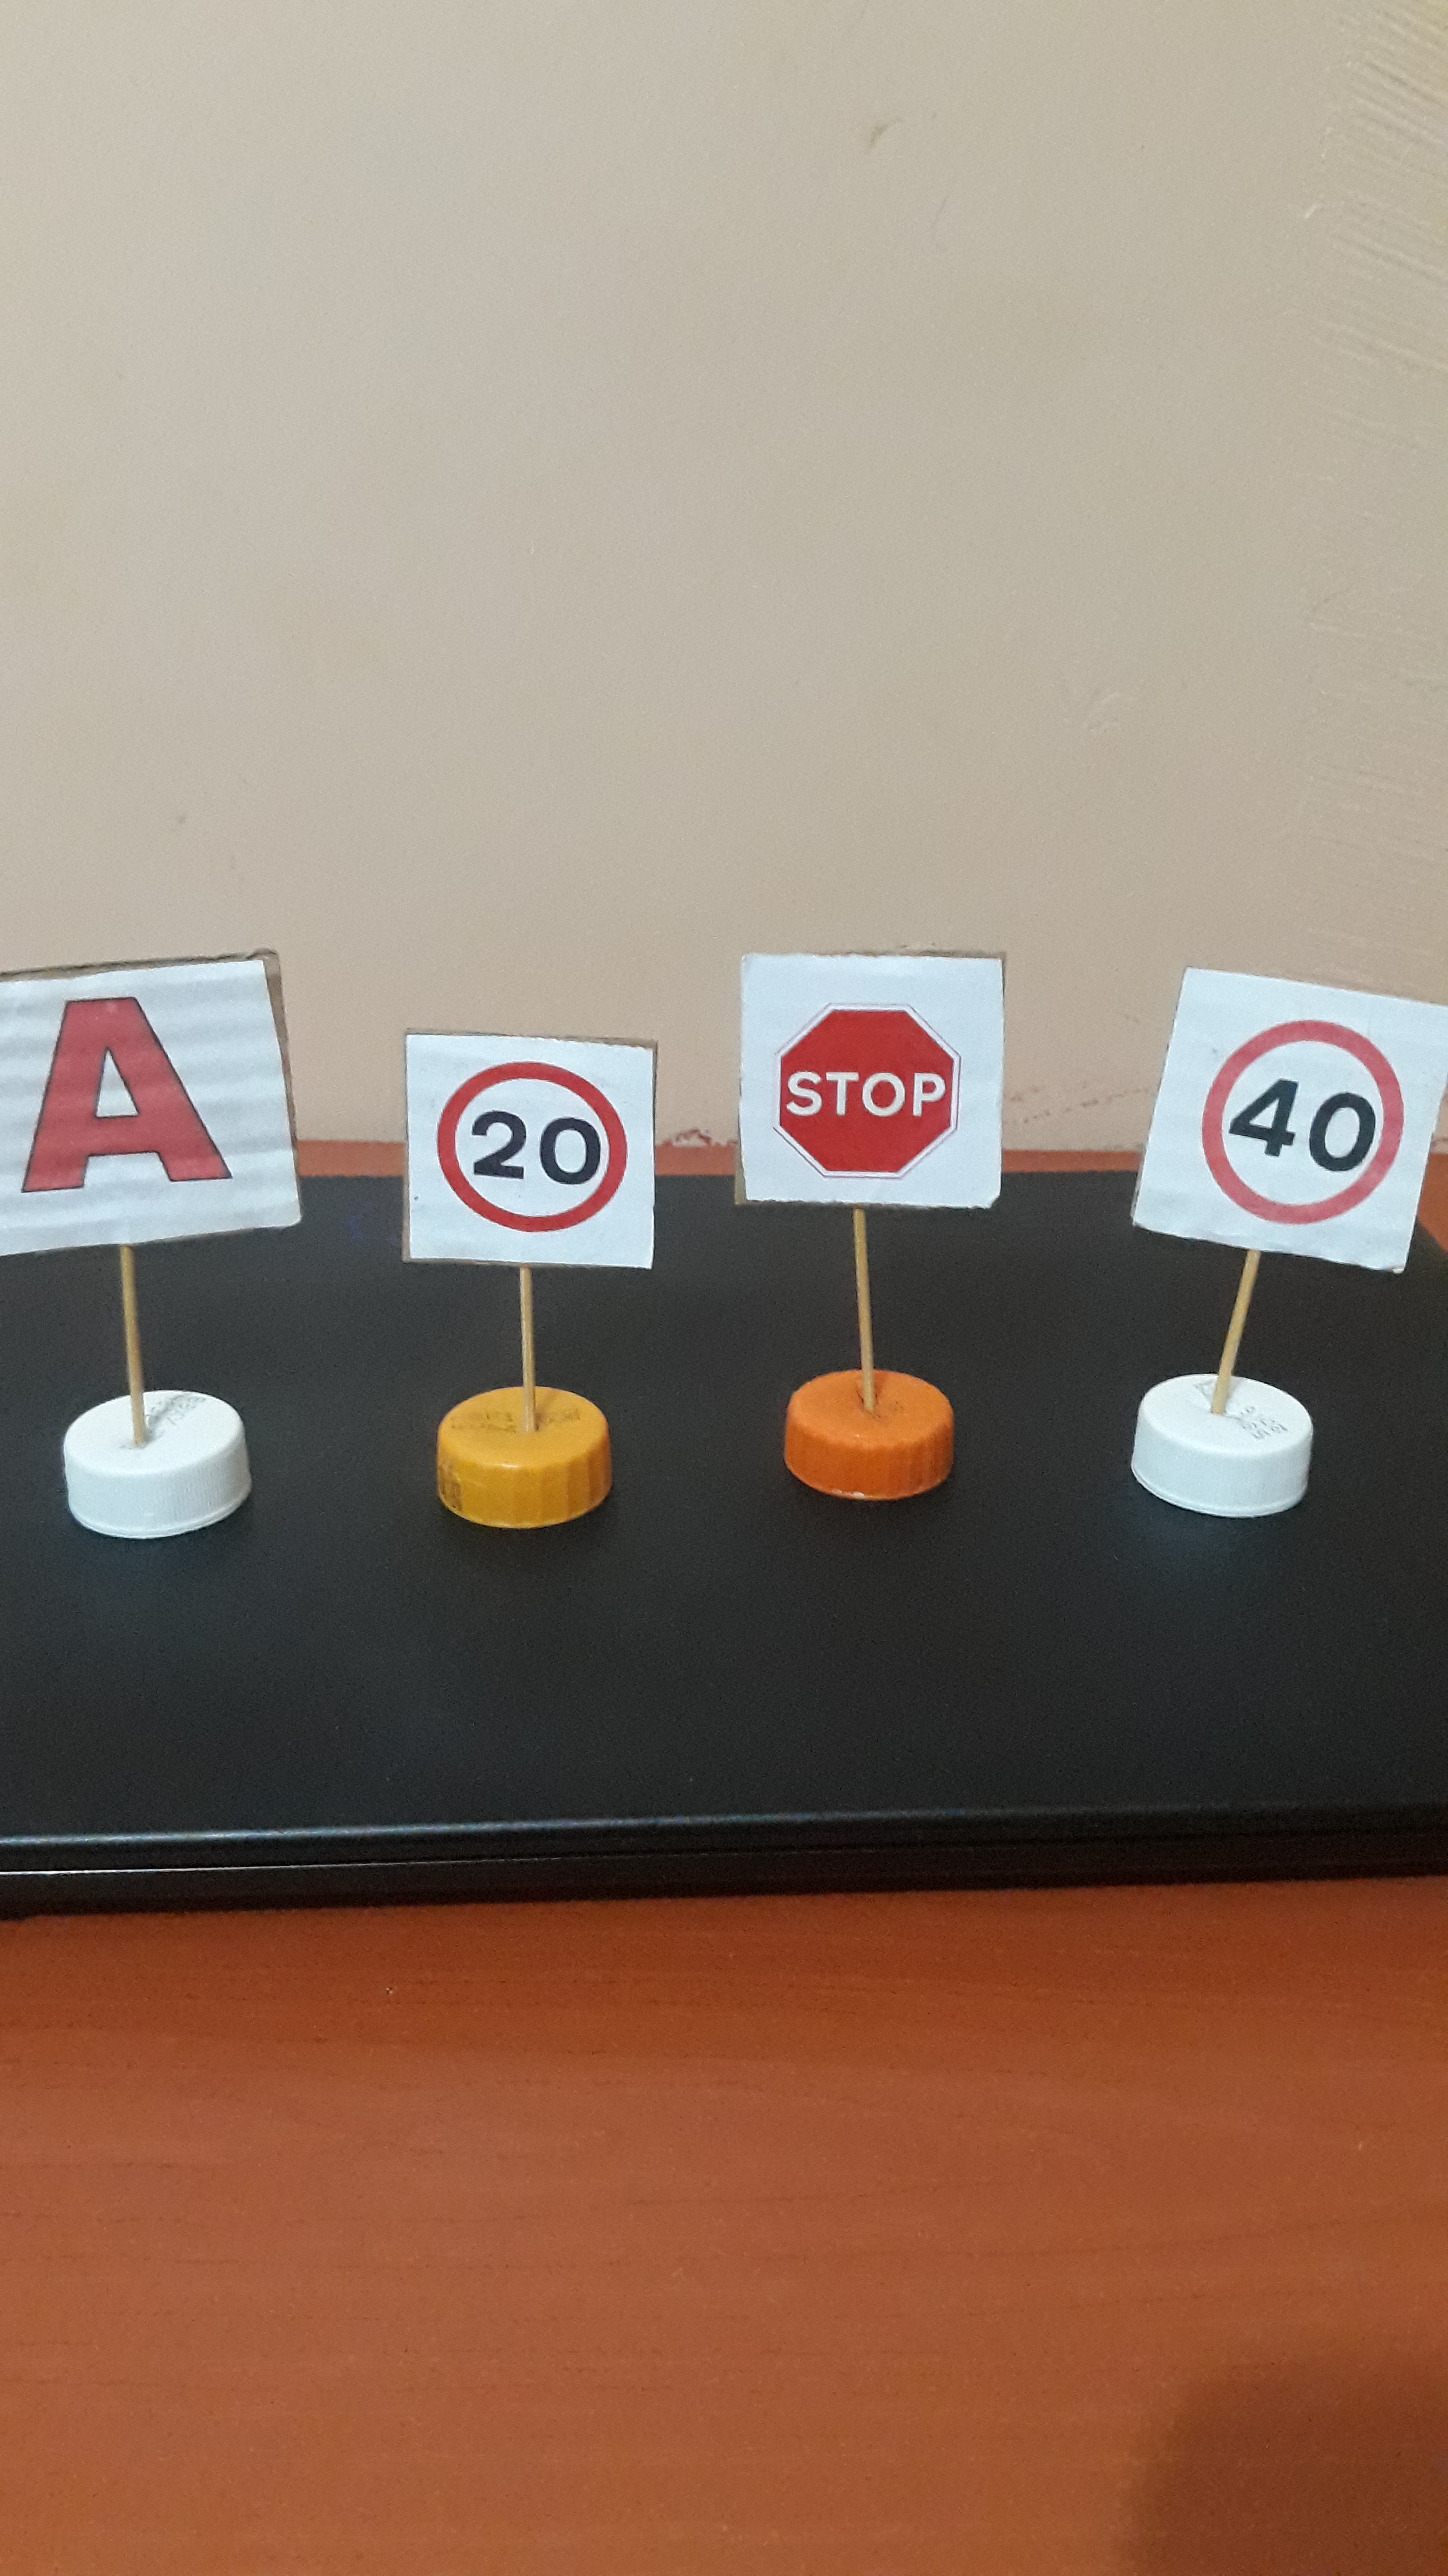20 kph: (423, 1035, 627, 1249)
40 kph: (1188, 991, 1414, 1249)
stop: (759, 977, 990, 1201)
zone A: (18, 980, 260, 1223)
